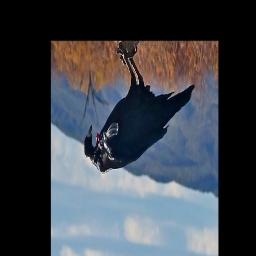Crow: (83, 43, 196, 175)
